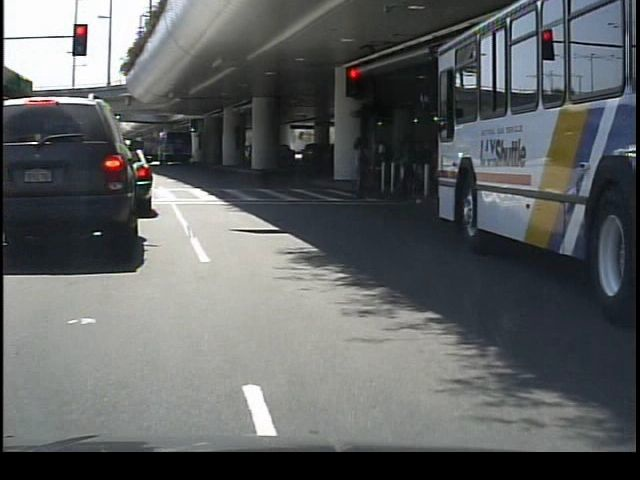person: (343, 137, 377, 203)
